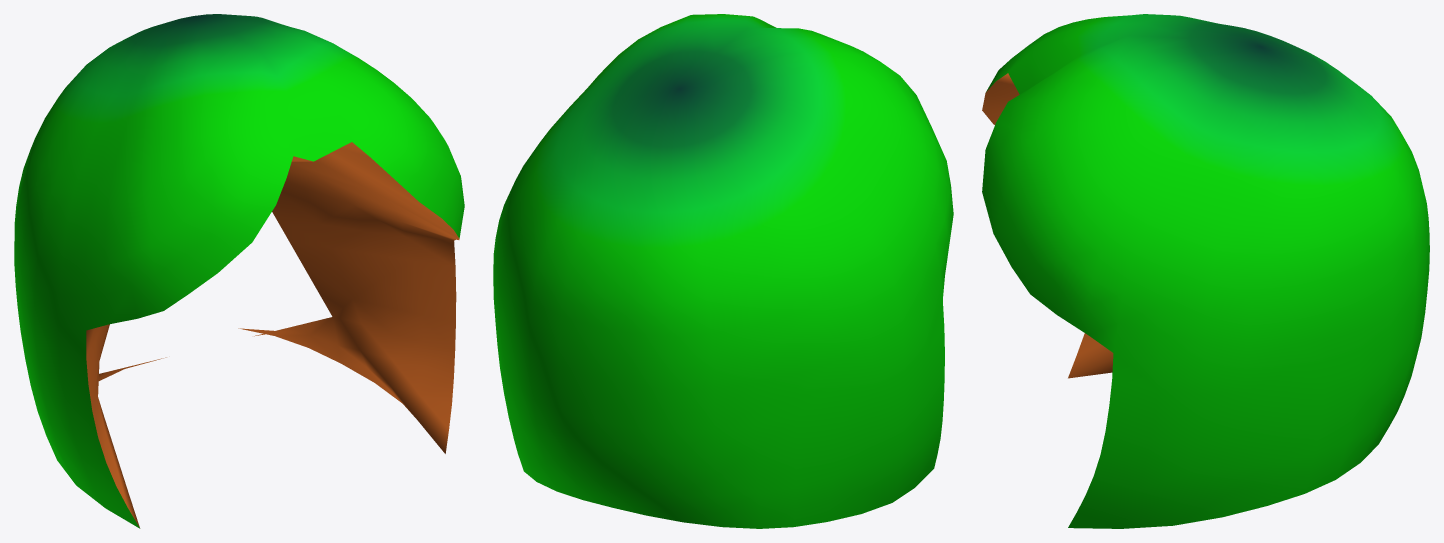
Rendered from Hair1_108.glb.
3 views of the same model, side by side, from view 1: azimuth 30°, elevation 25°; view 2: azimuth 150°, elevation 25°; view 3: azimuth 270°, elevation 25° (orthographic). The views are drawn at different scales.
Size of the model in its own units: 61.2 by 63.64 by 61.87.
